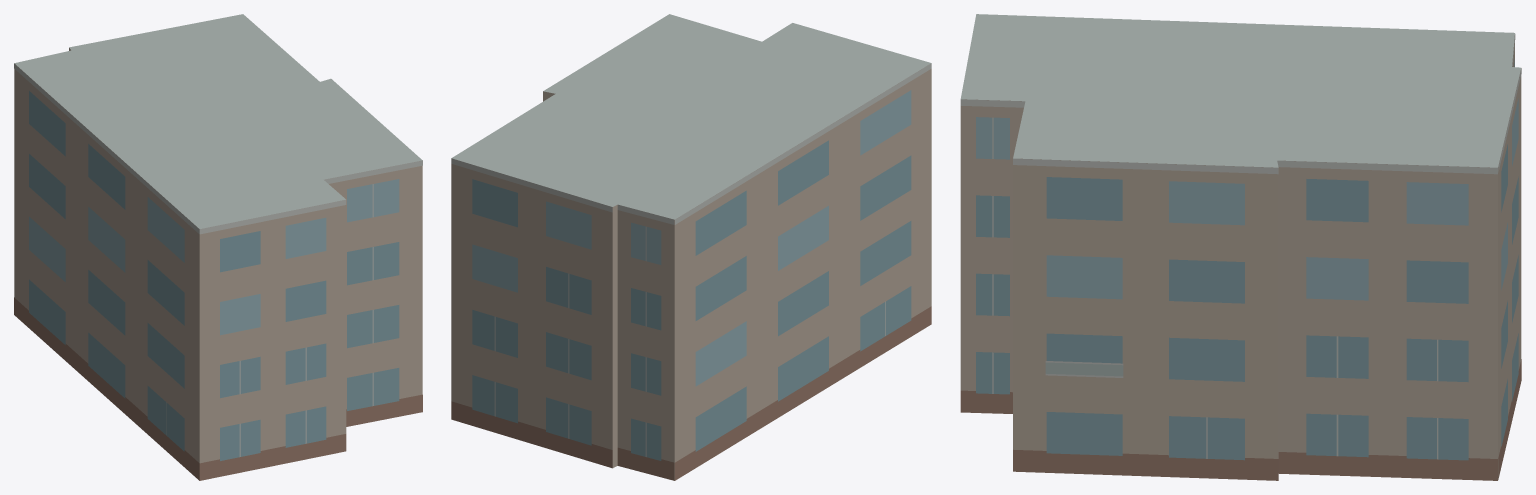
The model's file is survey-upis-32947303.glb.
3 views of the same model, side by side, from view 1: azimuth 30°, elevation 25°; view 2: azimuth 150°, elevation 25°; view 3: azimuth 270°, elevation 25° (orthographic). The views are drawn at different scales.
Visible parts, largest first — view 1: survey-upis-32947303.tmp; view 2: survey-upis-32947303.tmp; view 3: survey-upis-32947303.tmp.
Boxes of the visible parts, x1=… form: survey-upis-32947303.tmp: x1=14, y1=14, x2=422, y2=480; survey-upis-32947303.tmp: x1=451, y1=14, x2=931, y2=480; survey-upis-32947303.tmp: x1=960, y1=14, x2=1521, y2=480.
Bounding box in the file's own units: 12.27 × 11.65 × 18.92.
